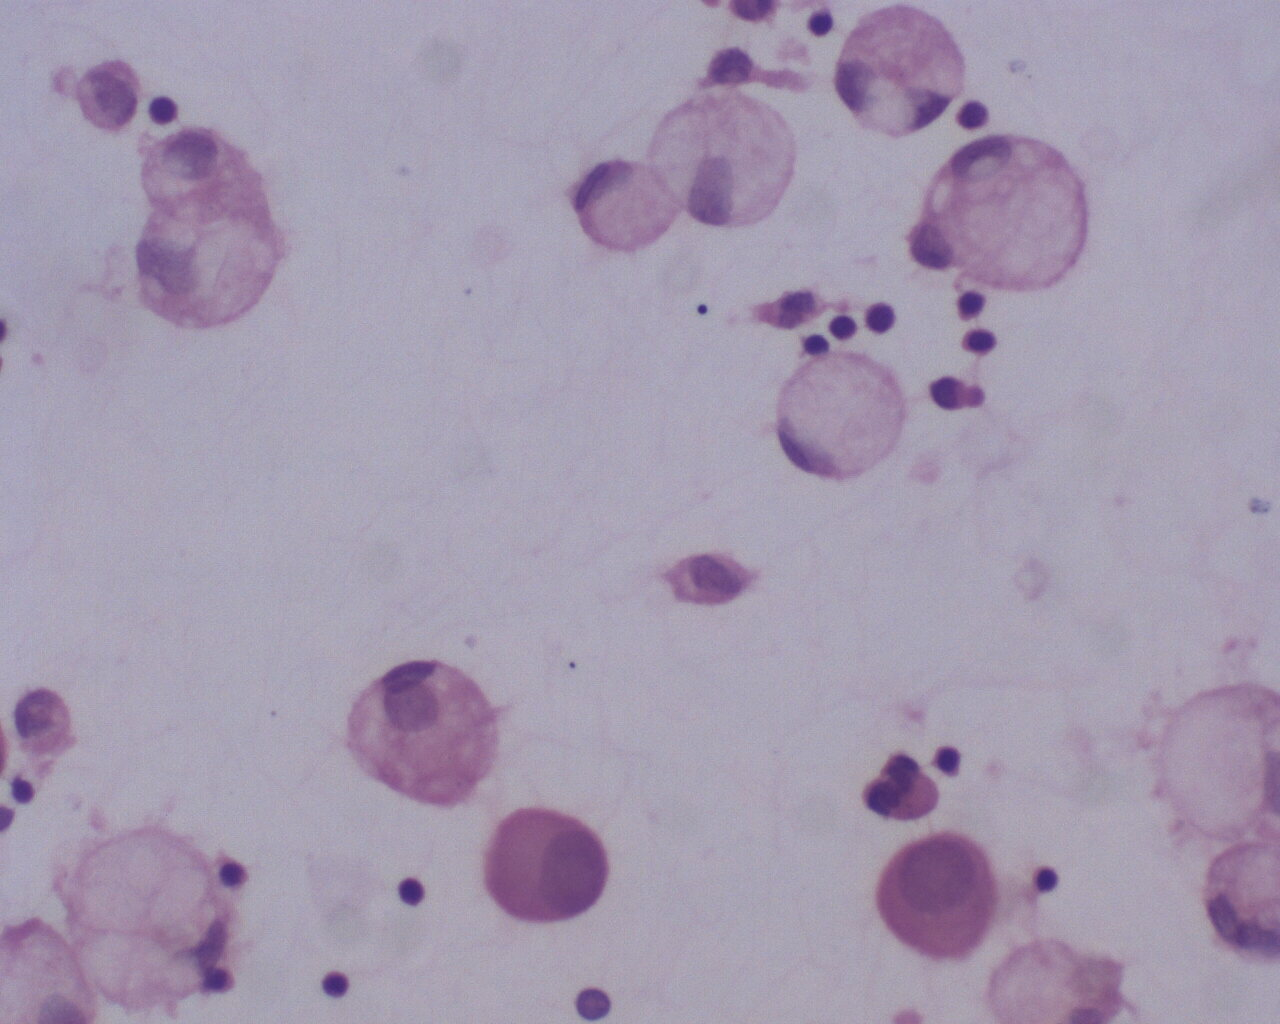ab: (870, 827, 1005, 965), (474, 810, 609, 926)
histo: (64, 822, 232, 1010), (932, 126, 1093, 295), (772, 346, 906, 489), (833, 6, 965, 137), (571, 154, 679, 254)
lymph: (312, 962, 354, 1006), (393, 870, 439, 908)
